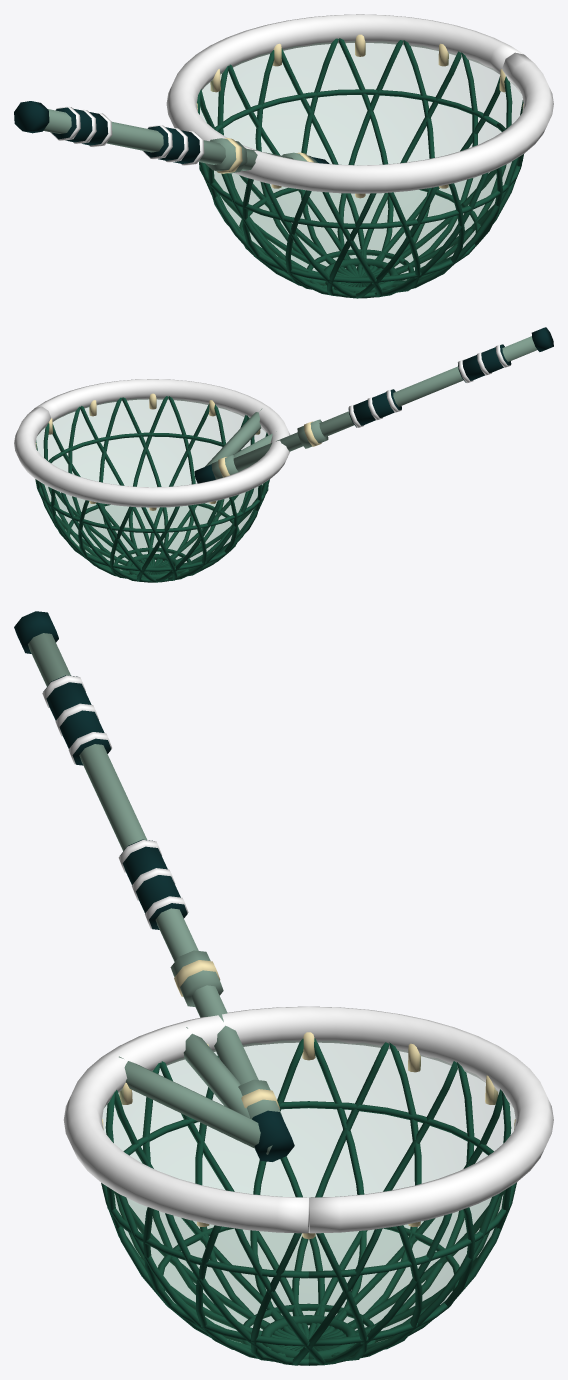
File: net-red-base.glb
The picture shows the model from 3 angles, top to bottom: view 1: azimuth 30°, elevation 25°; view 2: azimuth 150°, elevation 25°; view 3: azimuth 270°, elevation 25°; orthographic projection. The views are drawn at different scales.
Parts seen in each view (by area): view 1: Open woven pouch, Woven green cord, NetColor.001, Recovered metal, Equipment lagoon.003, NetColor, Equipment cream.004, Equipment cream.003; view 2: Open woven pouch, Woven green cord, NetColor.001, Recovered metal, Equipment lagoon.003, Recovered metal.001, NetColor, Equipment cream.004, Equipment cream.003; view 3: Open woven pouch, Woven green cord, NetColor.001, Recovered metal, Recovered metal.001, Equipment lagoon.003, NetColor, Equipment lagoon.004, Equipment cream.004, Equipment cream.003.
Boxes of the visible parts, box(x1,y1,x2,y2) form: Open woven pouch: box(200, 41, 522, 294); Woven green cord: box(197, 38, 523, 298); NetColor.001: box(166, 14, 553, 193); Recovered metal: box(43, 109, 317, 173); Equipment lagoon.003: box(14, 101, 200, 163); NetColor: box(50, 106, 204, 165); Equipment cream.004: box(196, 34, 523, 198); Equipment cream.003: box(216, 138, 313, 173); Open woven pouch: box(37, 398, 265, 579); Woven green cord: box(35, 396, 269, 582); NetColor.001: box(14, 379, 290, 507); Recovered metal: box(211, 336, 537, 479); Equipment lagoon.003: box(348, 327, 553, 427); Recovered metal.001: box(205, 408, 276, 466); NetColor: box(349, 344, 510, 427); Equipment cream.004: box(35, 393, 270, 510); Equipment cream.003: box(218, 421, 321, 477); Open woven pouch: box(103, 1041, 514, 1361); Woven green cord: box(101, 1038, 516, 1365); NetColor.001: box(63, 1006, 553, 1233); Recovered metal: box(28, 633, 282, 1118); Recovered metal.001: box(119, 1027, 272, 1154); Equipment lagoon.003: box(14, 611, 187, 929); NetColor: box(42, 675, 188, 928); Equipment lagoon.004: box(252, 1110, 294, 1161); Equipment cream.004: box(102, 1032, 515, 1239); Equipment cream.003: box(174, 960, 279, 1109).
Bounding box in the file's own units: 3.12 × 1.78 × 1.86.
